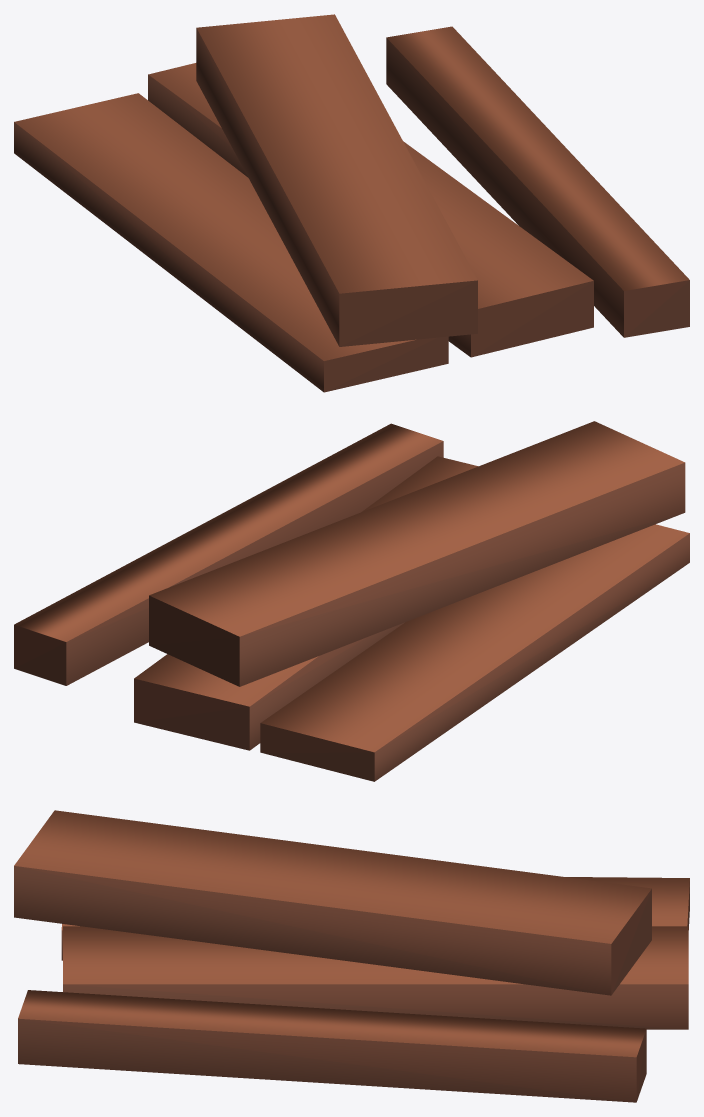
File: pirate_platform_planks.glb
3 views of the same model, one above another, from view 1: azimuth 30°, elevation 25°; view 2: azimuth 150°, elevation 25°; view 3: azimuth 270°, elevation 25° (orthographic). The views are drawn at different scales.
Parts seen in each view (by area): view 1: pirate_platform_planks; view 2: pirate_platform_planks; view 3: pirate_platform_planks.
Boxes of the visible parts, x1=… form: pirate_platform_planks: x1=14, y1=14, x2=689, y2=392; pirate_platform_planks: x1=14, y1=421, x2=689, y2=781; pirate_platform_planks: x1=14, y1=810, x2=689, y2=1102.
Size of the model in its own units: 1.89 by 0.428 by 2.7.
